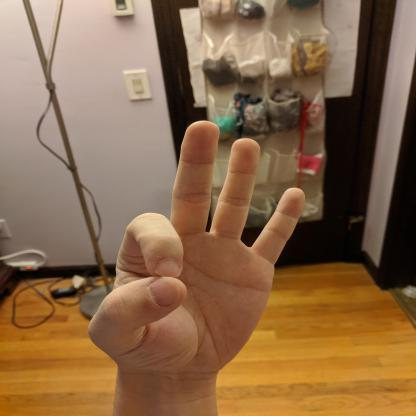F: (81, 119, 310, 380)
